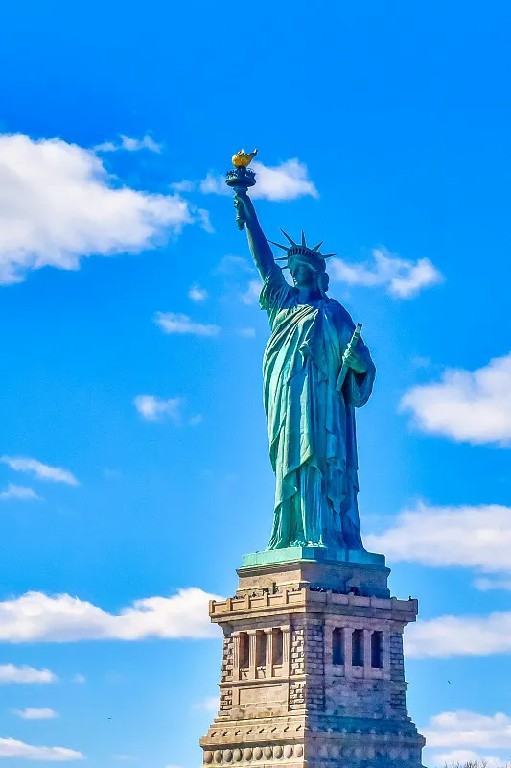SL: (198, 148, 426, 768)
